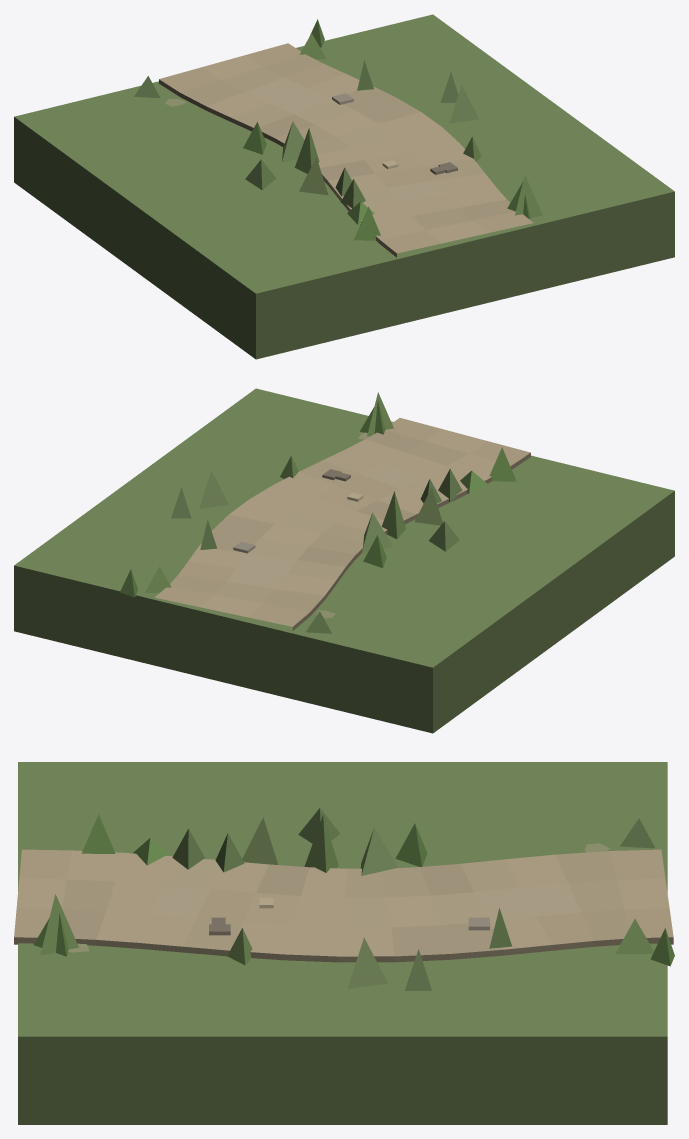
File: t_footpath.glb
The picture shows the model from 3 angles, top to bottom: view 1: azimuth 30°, elevation 25°; view 2: azimuth 150°, elevation 25°; view 3: azimuth 270°, elevation 25°; orthographic projection. The views are drawn at different scales.
Parts seen in each view (by area): view 1: t_footpath; view 2: t_footpath; view 3: t_footpath.
Boxes of the visible parts, left/top/right/bottom form: t_footpath: left=14, top=14, right=674, bottom=359; t_footpath: left=14, top=388, right=674, bottom=733; t_footpath: left=14, top=762, right=674, bottom=1124.
Bounding box in the file's own units: 2 × 0.4931 × 2.04.
